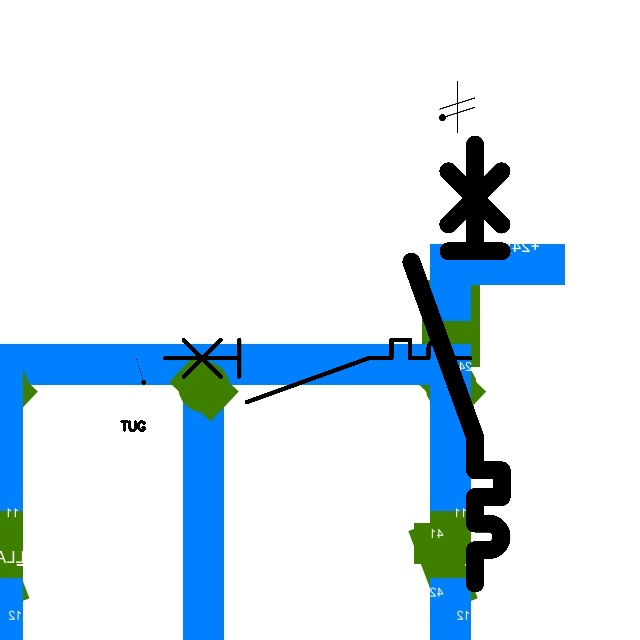interruptor_termomagnetico: (400, 133, 513, 595), (157, 332, 478, 410)
